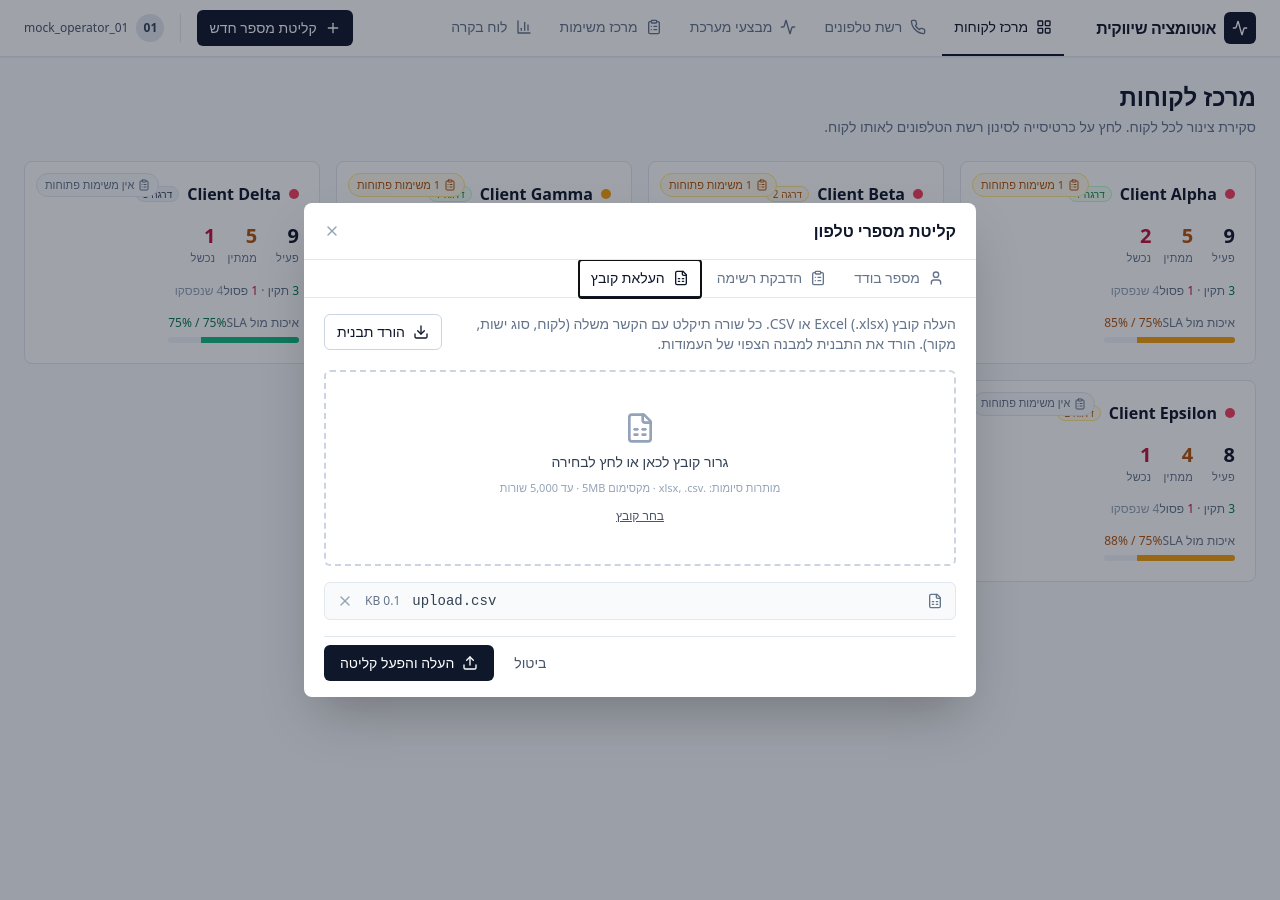
Test: Phase E1-D — file-upload tab › happy-path CSV with 3 valid rows renders a success summary
Earlier steps of the test are not shown.
Expected: the text "upload.csv" is shown, [412,593,496,609]
Click the button "העלה והפעל קליטה" at (409, 663), box [324,645,494,681]
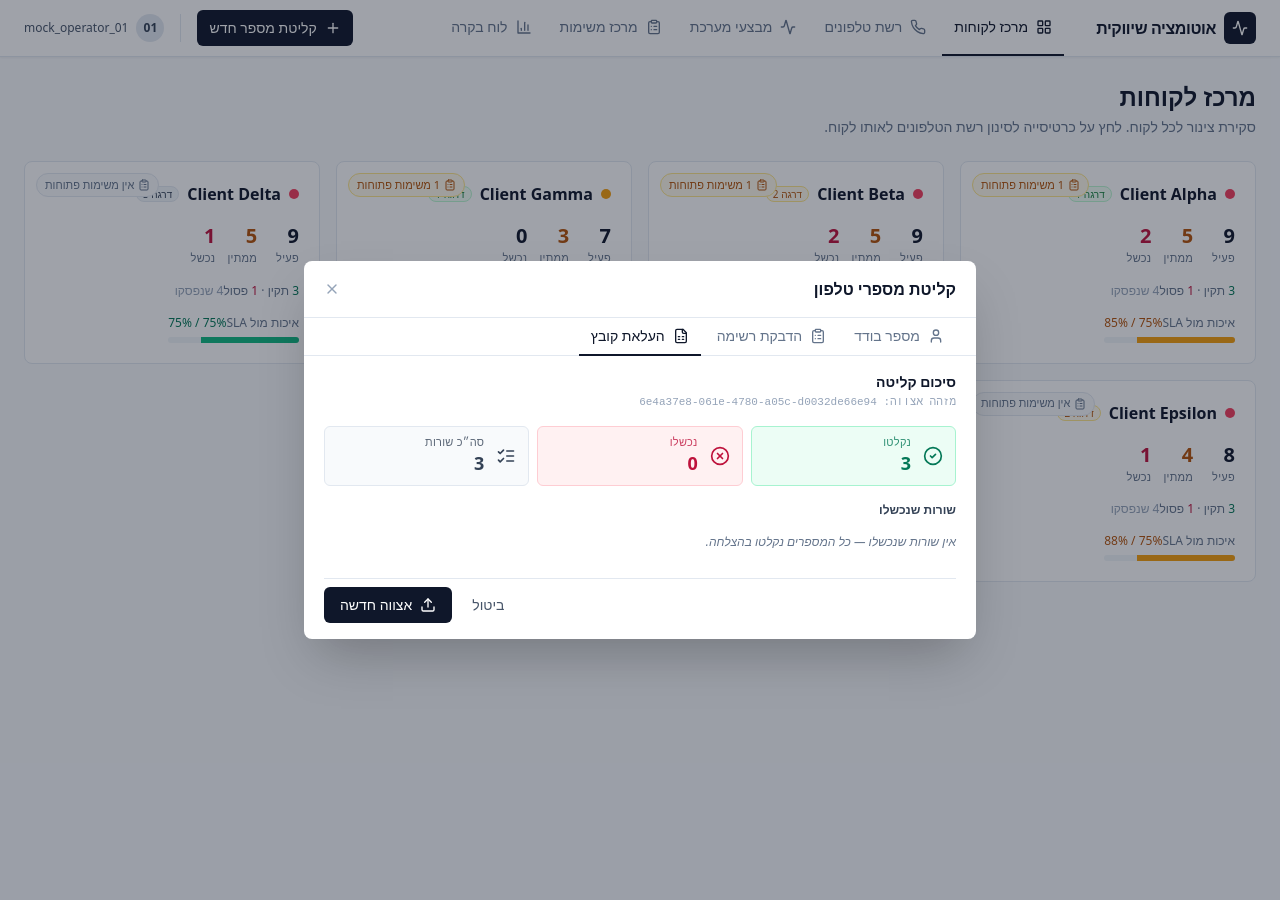
Now the text "אין שורות שנכשלו — כל המספרים נקלטו בהצלחה." is shown, box [706,533,956,550]
Now the button "אצווה חדשה" is shown, box [324,587,452,623]
